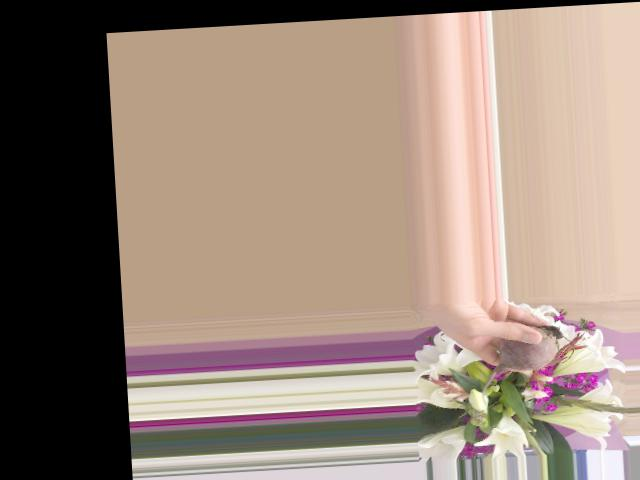beet: (478, 323, 577, 404)
